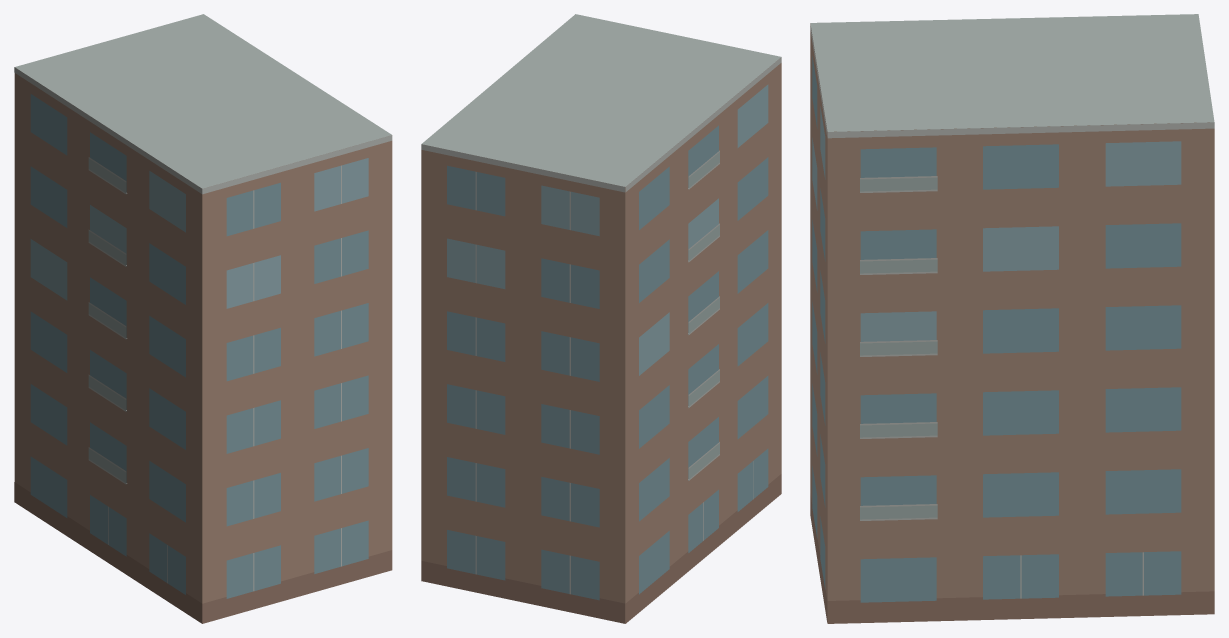
File: survey-upis-32883298.glb
The picture shows the model from 3 angles, left to right: view 1: azimuth 30°, elevation 25°; view 2: azimuth 150°, elevation 25°; view 3: azimuth 270°, elevation 25°; orthographic projection. The views are drawn at different scales.
Visible parts, largest first — view 1: survey-upis-32883298.tmp; view 2: survey-upis-32883298.tmp; view 3: survey-upis-32883298.tmp.
Boxes of the visible parts, box(x1,y1,x2,y2) form: survey-upis-32883298.tmp: box(14, 14, 392, 623); survey-upis-32883298.tmp: box(421, 14, 781, 623); survey-upis-32883298.tmp: box(810, 14, 1214, 623).
Bounding box in the file's own units: 9.79 × 19.01 × 14.17.
